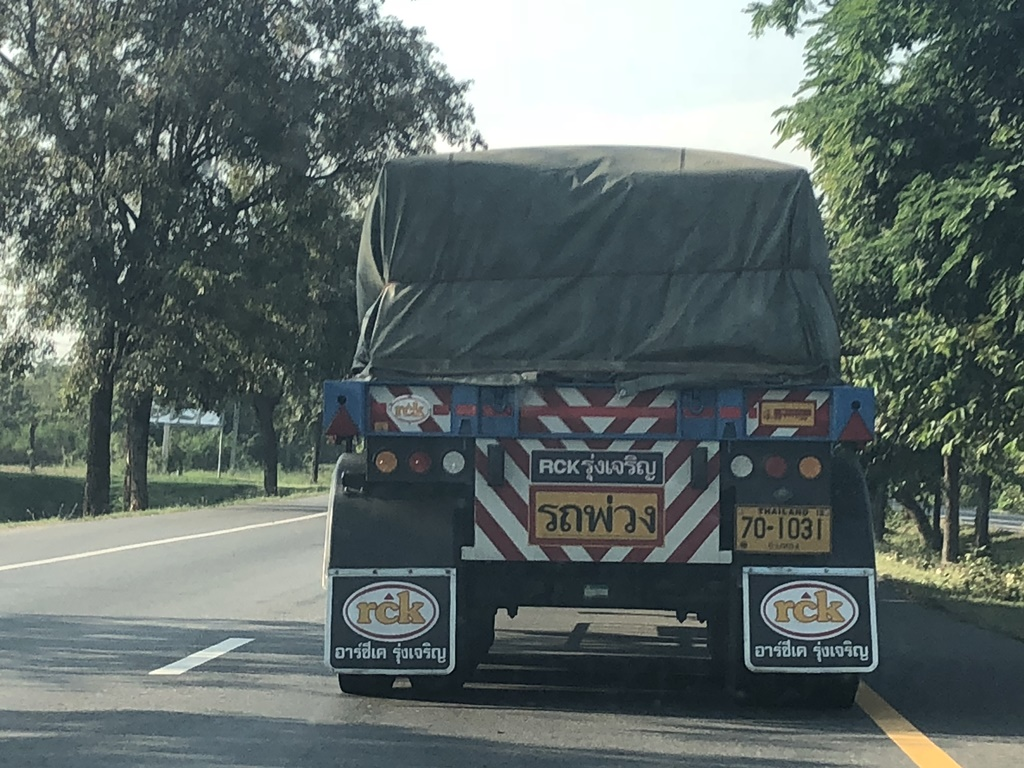seven: (737, 510, 755, 544)
zero: (782, 511, 804, 543), (749, 511, 769, 542)
